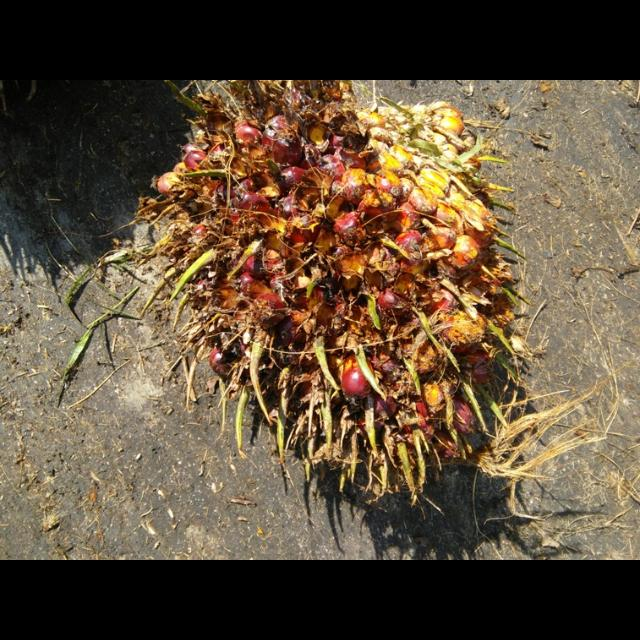Overripe: (142, 106, 518, 499)
